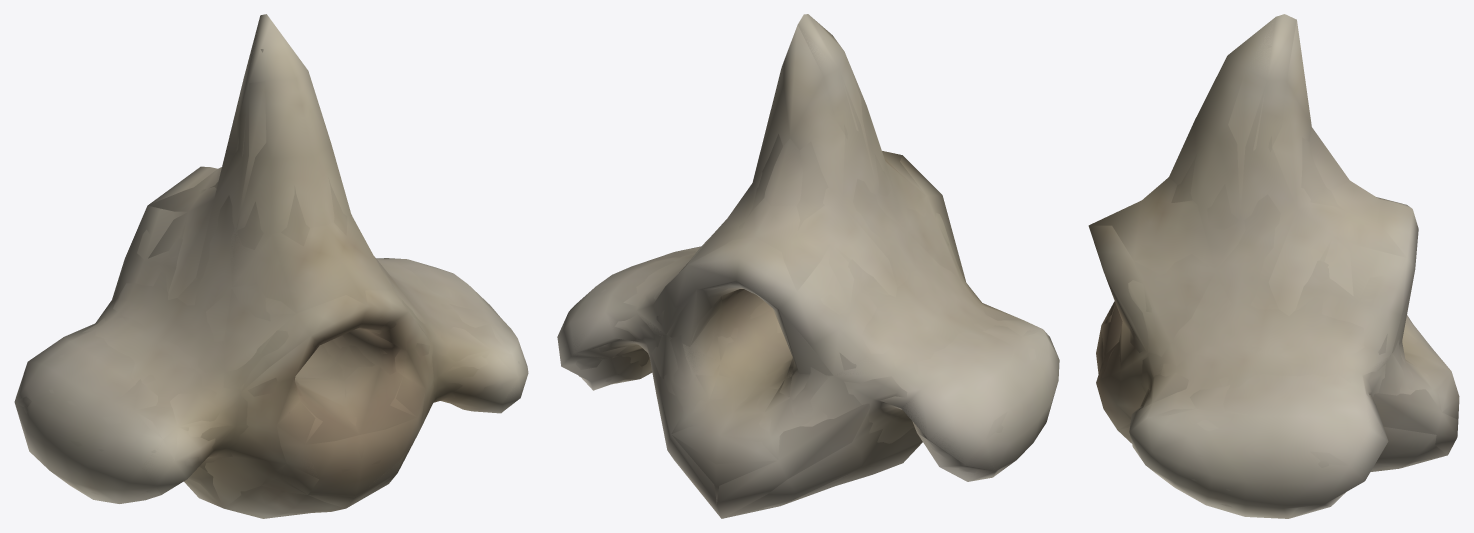
File: vertebrae thoracicae 11.fbx
3 renders of one model, left to right at view 1: azimuth 30°, elevation 25°; view 2: azimuth 150°, elevation 25°; view 3: azimuth 270°, elevation 25°, orthographic. The views are drawn at different scales.
Visible parts, largest first — view 1: vertebrae thoracicae 11, vertebrae thoracicae 11 low, vertebrae thoracicae 11 high; view 2: vertebrae thoracicae 11, vertebrae thoracicae 11 low, vertebrae thoracicae 11 high; view 3: vertebrae thoracicae 11, vertebrae thoracicae 11 low, vertebrae thoracicae 11 high.
Part boxes in pixels (left/top/right/bottom): vertebrae thoracicae 11: left=14, top=14, right=528, bottom=518; vertebrae thoracicae 11 low: left=15, top=33, right=519, bottom=518; vertebrae thoracicae 11 high: left=23, top=49, right=519, bottom=504; vertebrae thoracicae 11: left=557, top=14, right=1059, bottom=518; vertebrae thoracicae 11 low: left=558, top=25, right=1054, bottom=518; vertebrae thoracicae 11 high: left=565, top=36, right=1052, bottom=510; vertebrae thoracicae 11: left=1088, top=14, right=1459, bottom=518; vertebrae thoracicae 11 low: left=1089, top=20, right=1459, bottom=518; vertebrae thoracicae 11 high: left=1119, top=44, right=1438, bottom=511.
Size of the model in its own units: 1.37 by 1.37 by 1.01.
Materials: 1 (1 with a texture image).
